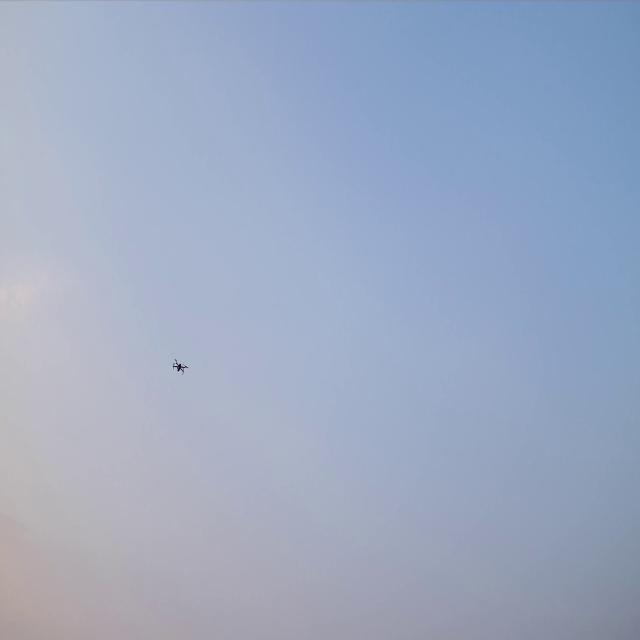UAV: (171, 357, 189, 375)
